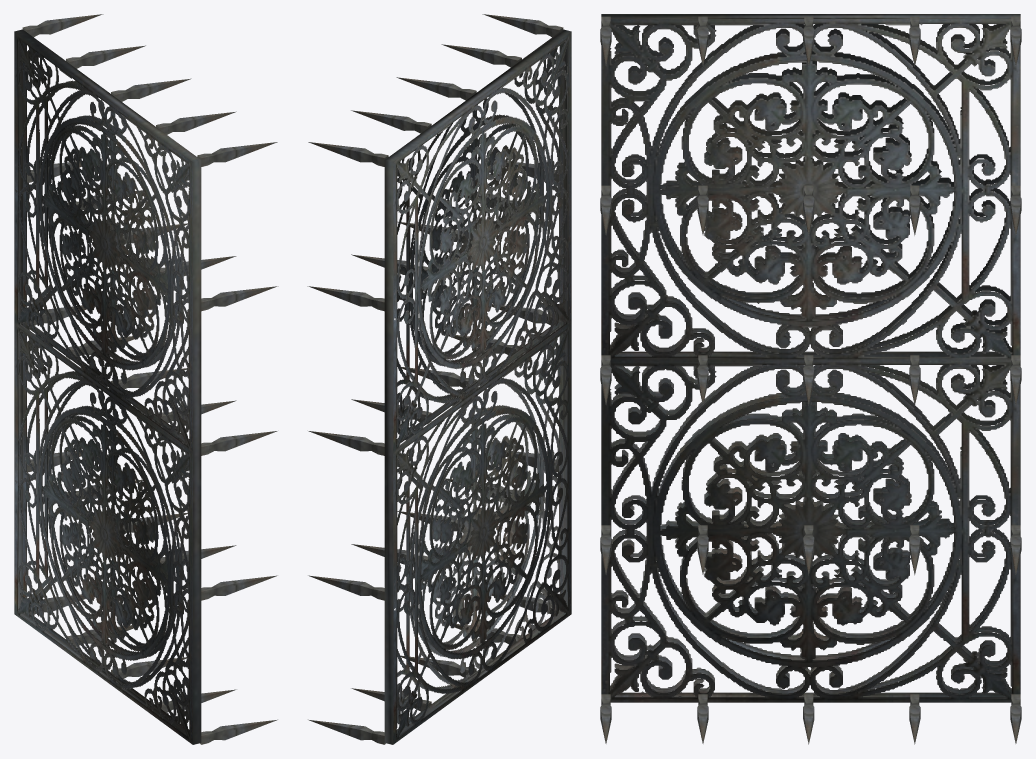
The model's file is spikeynew.fbx.
3 renders of one model, left to right at view 1: azimuth 30°, elevation 25°; view 2: azimuth 150°, elevation 25°; view 3: azimuth 270°, elevation 25°, orthographic. The views are drawn at different scales.
Visible parts, largest first — view 1: Plane.001; view 2: Plane.001; view 3: Plane.001.
Part boxes in pixels (x1,y1,x2,y2): Plane.001: [14, 14, 278, 744]; Plane.001: [307, 14, 571, 744]; Plane.001: [600, 14, 1021, 744].
Bounding box in the file's own units: 56.7 × 363 × 201.
